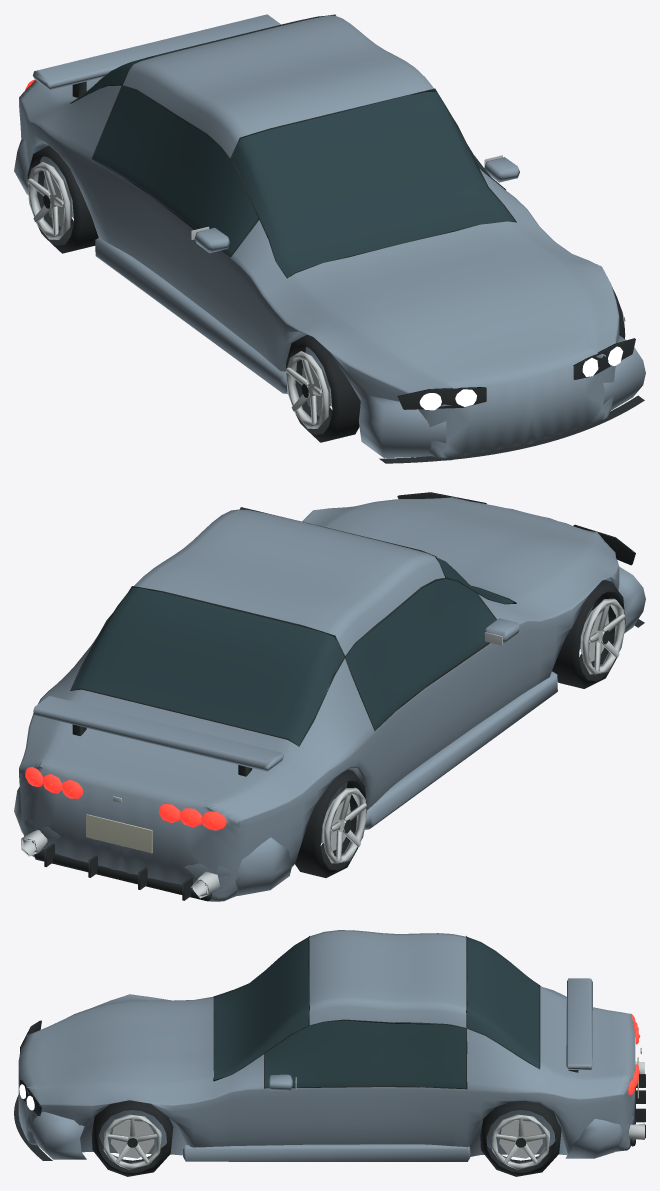
File: neralith-nymrel.glb
3 views of the same model, one above another, from view 1: azimuth 30°, elevation 25°; view 2: azimuth 150°, elevation 25°; view 3: azimuth 270°, elevation 25° (orthographic). The views are drawn at different scales.
Visible parts, largest first — view 1: scocca, cristallo_ant, cofano, tetto, cristallo_sx, porta_sx, paraurti_ant, minigonna_sx, spoiler, ruota_ant_sx_gomma, ruota_post_sx_gomma, splitter_ant (+13 smaller); view 2: scocca, cristallo_post, tetto, cofano, portellone, cristallo_sx, porta_sx, spoiler, minigonna_sx, paraurti_post, ruota_ant_sx_gomma, ruota_post_sx_gomma (+10 smaller); view 3: scocca, tetto, cofano, porta_dx, cristallo_dx, cristallo_ant, cristallo_post, portellone, minigonna_dx, spoiler, ruota_ant_dx_gomma, ruota_post_dx_gomma (+13 smaller).
Part boxes in pixels (x1,y1,x2,y2): scocca: [19, 82, 619, 460]; cristallo_ant: [231, 91, 514, 277]; cofano: [287, 221, 599, 378]; tetto: [123, 15, 433, 158]; cristallo_sx: [93, 85, 258, 255]; porta_sx: [92, 159, 245, 341]; paraurti_ant: [358, 335, 645, 458]; minigonna_sx: [95, 238, 287, 394]; spoiler: [33, 14, 280, 90]; ruota_ant_sx_gomma: [286, 335, 360, 442]; ruota_post_sx_gomma: [27, 146, 98, 253]; splitter_ant: [379, 395, 644, 463]; scocca: [19, 497, 619, 901]; cristallo_post: [71, 587, 343, 745]; tetto: [134, 509, 444, 655]; cofano: [321, 498, 599, 603]; portellone: [34, 689, 298, 811]; cristallo_sx: [345, 579, 496, 729]; porta_sx: [368, 635, 516, 809]; spoiler: [33, 696, 283, 771]; minigonna_sx: [364, 671, 557, 829]; paraurti_post: [14, 787, 291, 895]; ruota_ant_sx_gomma: [552, 580, 625, 688]; ruota_post_sx_gomma: [295, 769, 366, 877]; scocca: [18, 987, 635, 1156]; tetto: [309, 930, 466, 1027]; cofano: [41, 997, 213, 1091]; porta_dx: [248, 1087, 466, 1146]; cristallo_dx: [264, 1020, 466, 1088]; cristallo_ant: [214, 937, 309, 1079]; cristallo_post: [467, 937, 539, 1068]; portellone: [540, 986, 634, 1083]; minigonna_dx: [183, 1144, 470, 1161]; spoiler: [566, 978, 592, 1069]; ruota_ant_dx_gomma: [91, 1100, 173, 1176]; ruota_post_dx_gomma: [480, 1100, 561, 1176].
Size of the model in its own units: 2.25 by 1.47 by 5.24.
